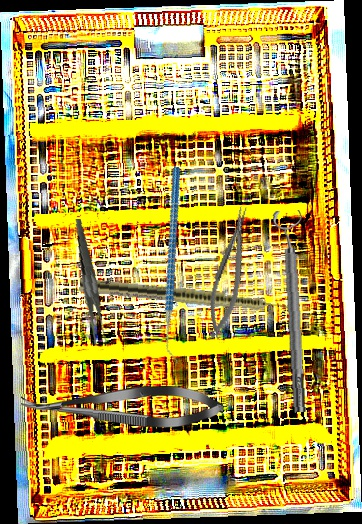Chopper: (106, 165, 246, 364)
Dressing Forceps: (58, 218, 124, 347)
Fixation Ring: (271, 209, 315, 414)
Handpiece: (78, 277, 302, 318)
Micro Scissor: (20, 383, 224, 429)
Needle Holder: (198, 203, 262, 343)
